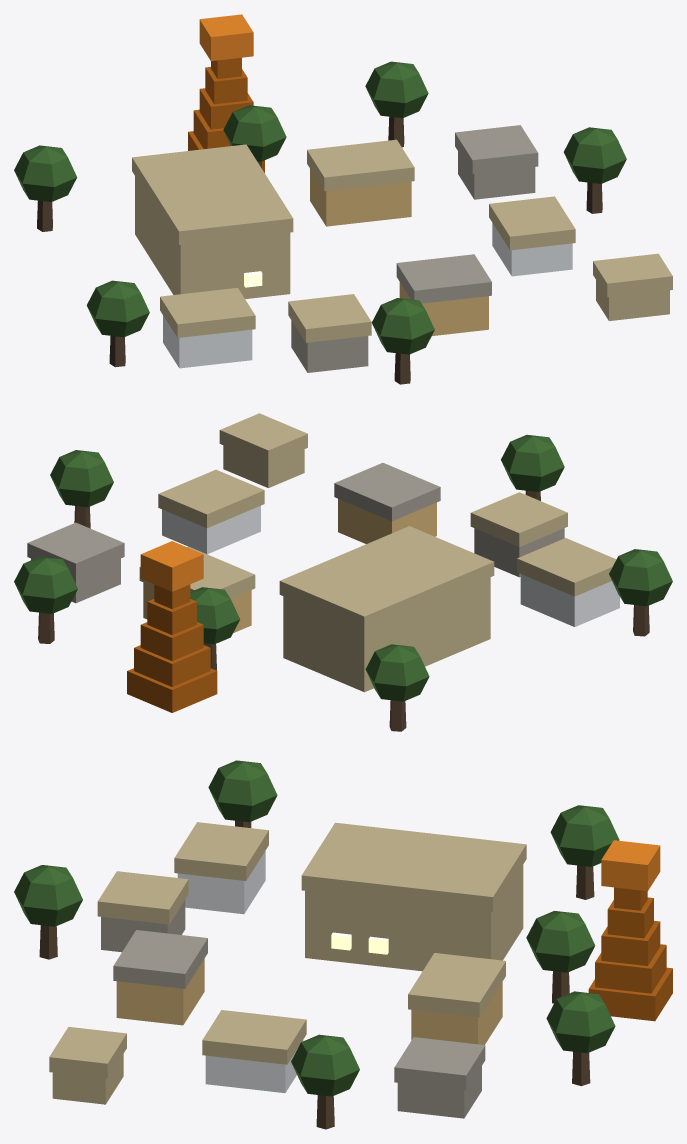
Rendered from overworld-settlement-south-asian-rural.glb.
3 views of the same model, one above another, from view 1: azimuth 30°, elevation 25°; view 2: azimuth 150°, elevation 25°; view 3: azimuth 270°, elevation 25° (orthographic). The views are drawn at different scales.
Visible parts, largest first — view 1: settlement; view 2: settlement; view 3: settlement.
Boxes of the visible parts, box(x1,y1,x2,y2) form: settlement: box(14, 14, 672, 384); settlement: box(14, 413, 672, 731); settlement: box(14, 760, 672, 1129).
Bounding box in the file's own units: 0.5218 × 0.121 × 0.4788.
